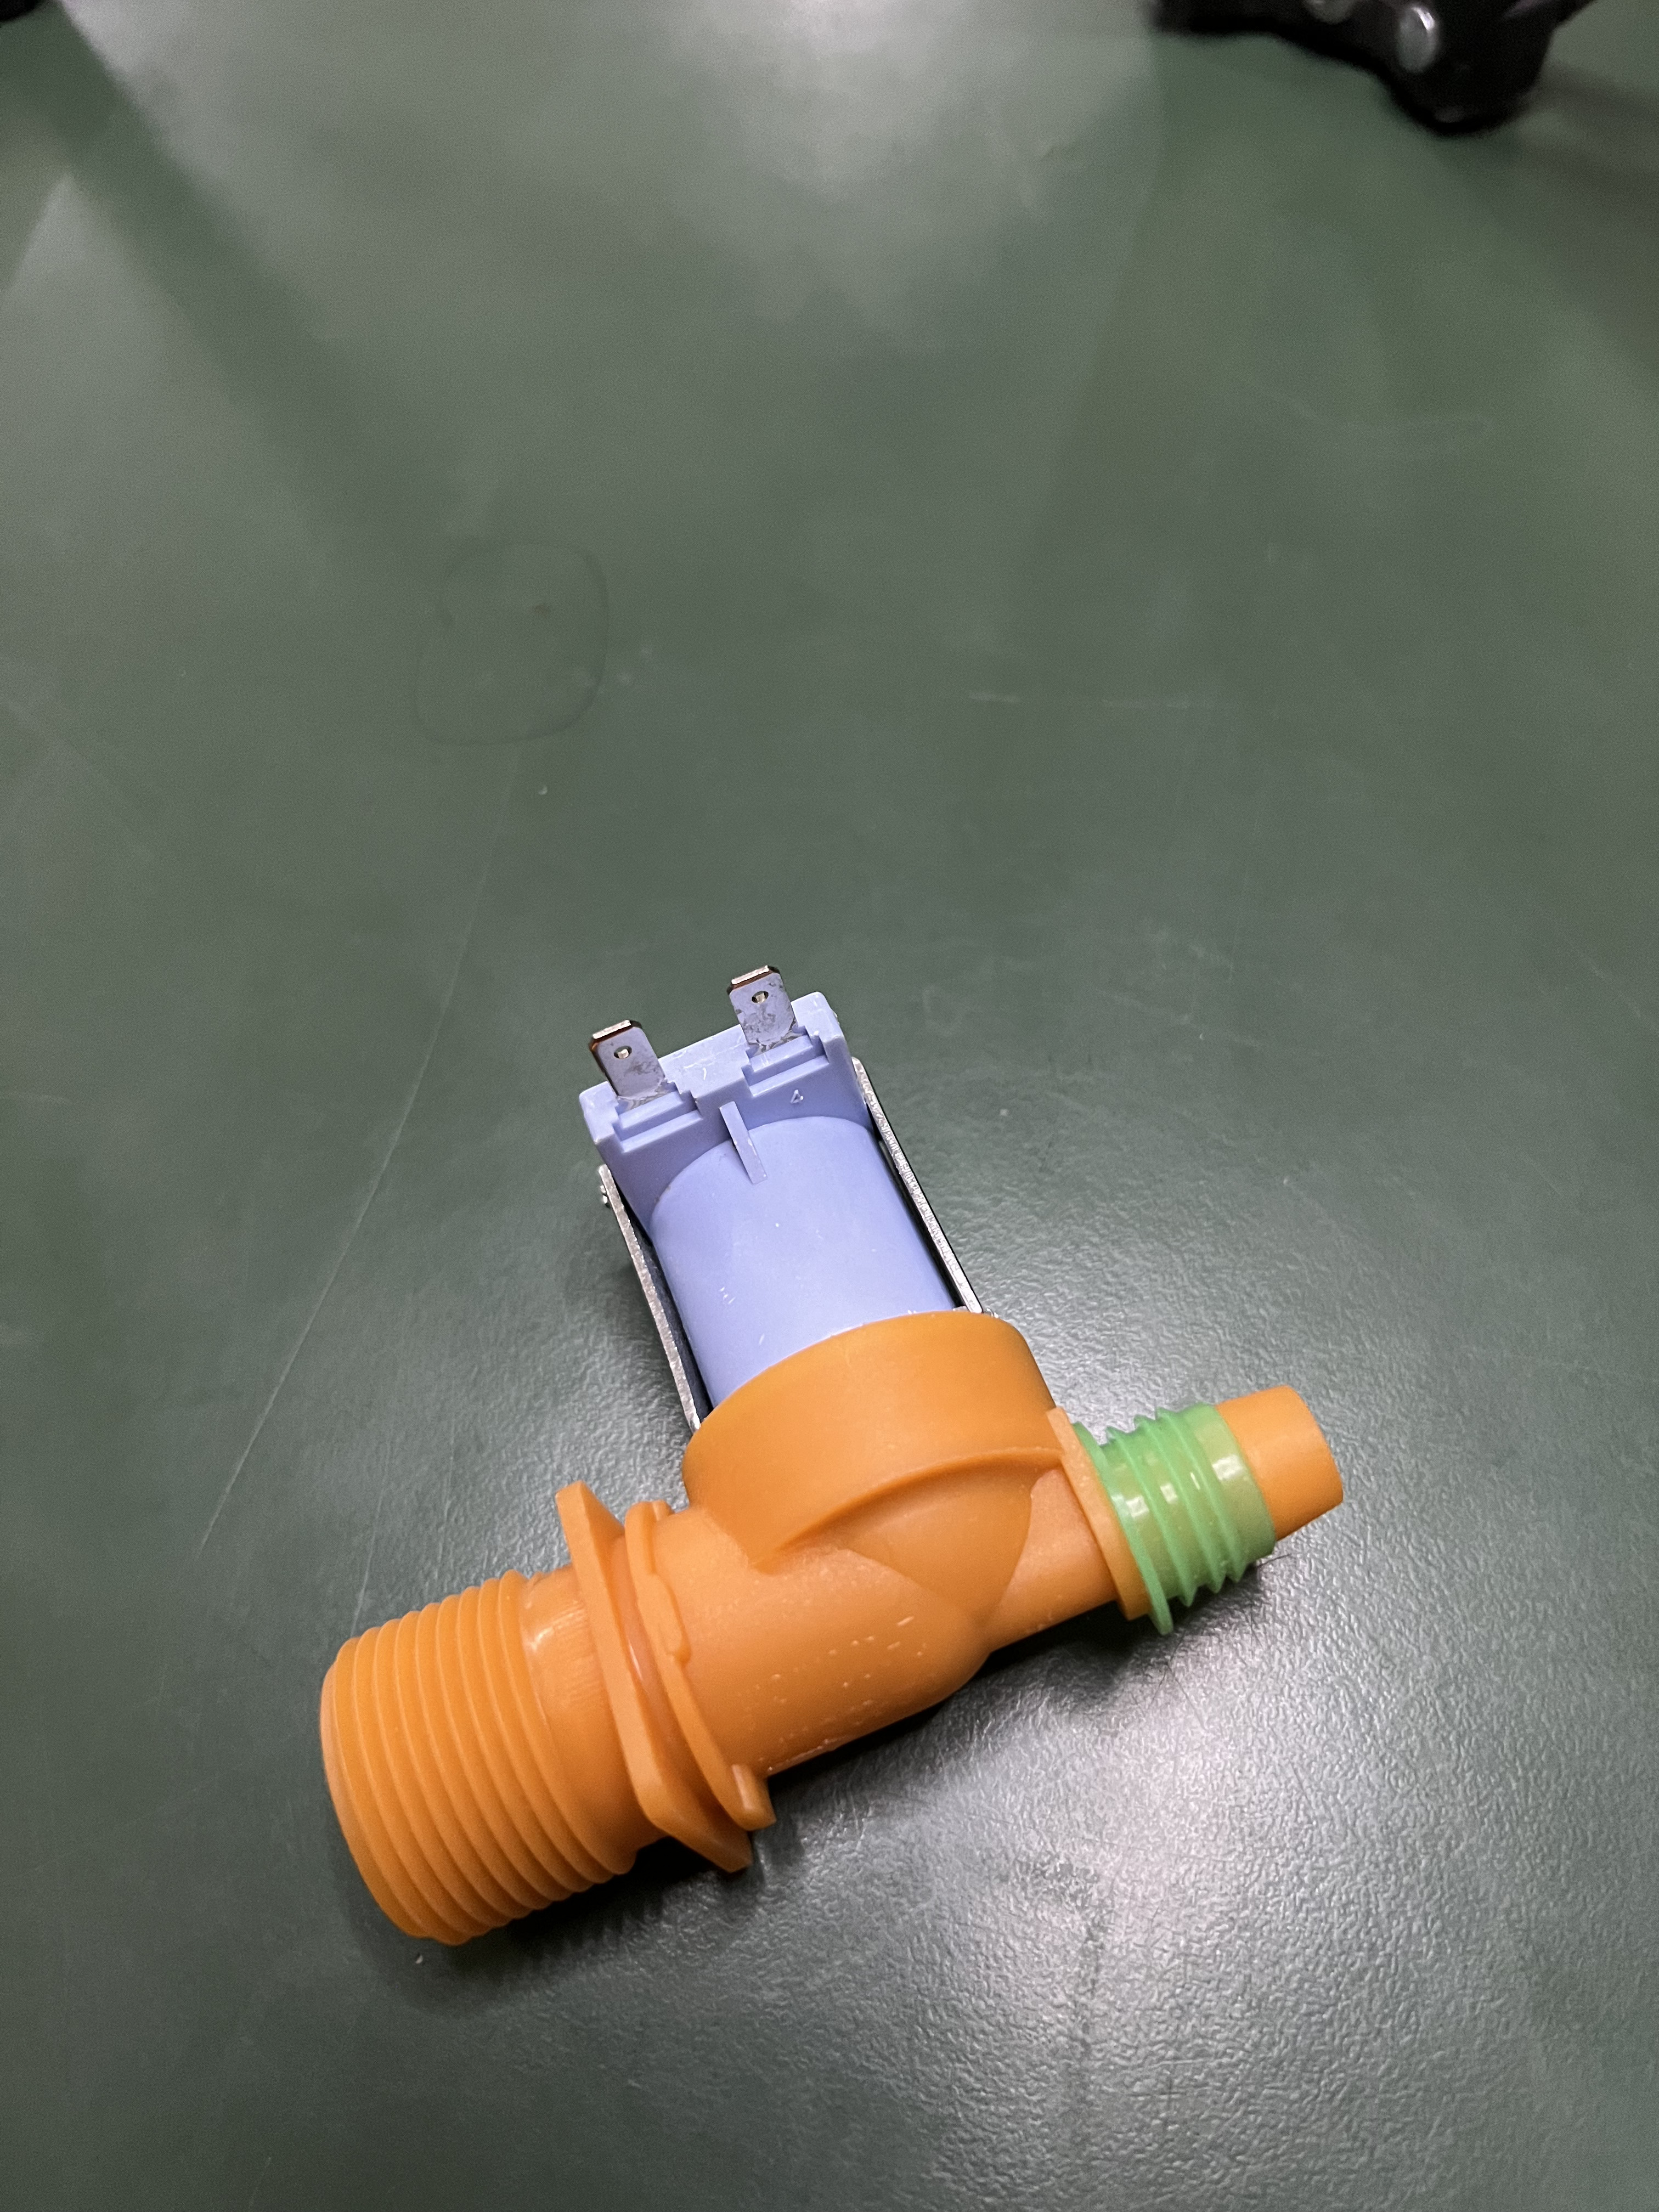ss_inlet_valves: (249, 977, 1387, 1987)
